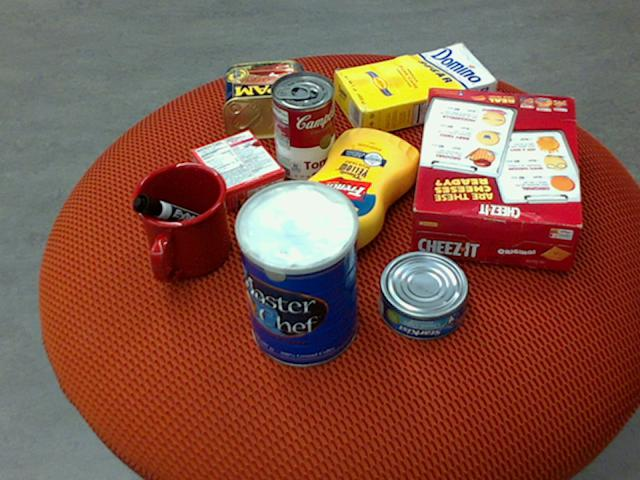cracker_box: (410, 86, 583, 269)
gelatin_box: (190, 128, 283, 212)
large_marker: (131, 194, 221, 237)
master_chef_can: (231, 181, 357, 368)
mug: (128, 162, 229, 282)
mustard_bottle: (290, 127, 420, 269)
potted_meat_can: (224, 59, 313, 139)
sugar_box: (333, 42, 497, 137)
tomato_soup_can: (271, 69, 335, 181)
tuna_fish_can: (378, 250, 469, 340)
